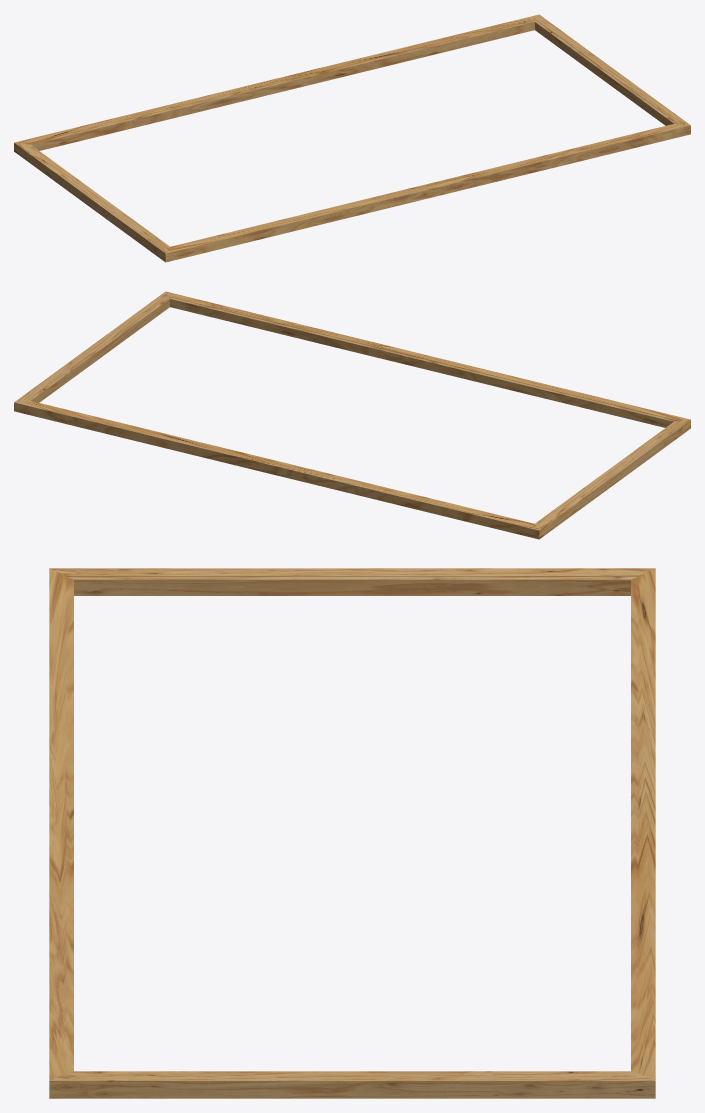
Rendered from Raam100x200.dae.
3 views of the same model, one above another, from view 1: azimuth 30°, elevation 25°; view 2: azimuth 150°, elevation 25°; view 3: azimuth 270°, elevation 25° (orthographic). The views are drawn at different scales.
Parts seen in each view (by area): view 1: Raam_geo; view 2: Raam_geo; view 3: Raam_geo.
Part boxes in pixels (x1,y1,x2,y2): Raam_geo: (14, 14, 690, 262); Raam_geo: (14, 291, 690, 539); Raam_geo: (49, 568, 655, 1098).
Bounding box in the file's own units: 200 × 3.25 × 100.
1 material, 1 textured.
